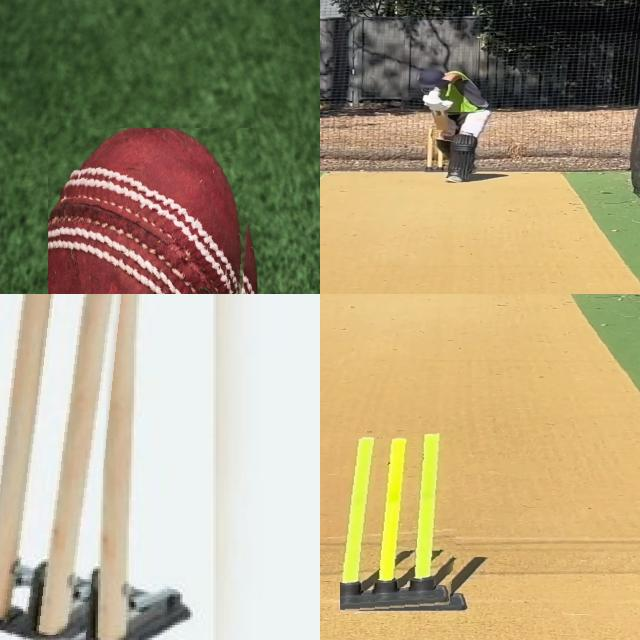Cricket ball: (48, 128, 260, 294)
Stumps: (0, 294, 146, 640), (340, 433, 468, 613)
